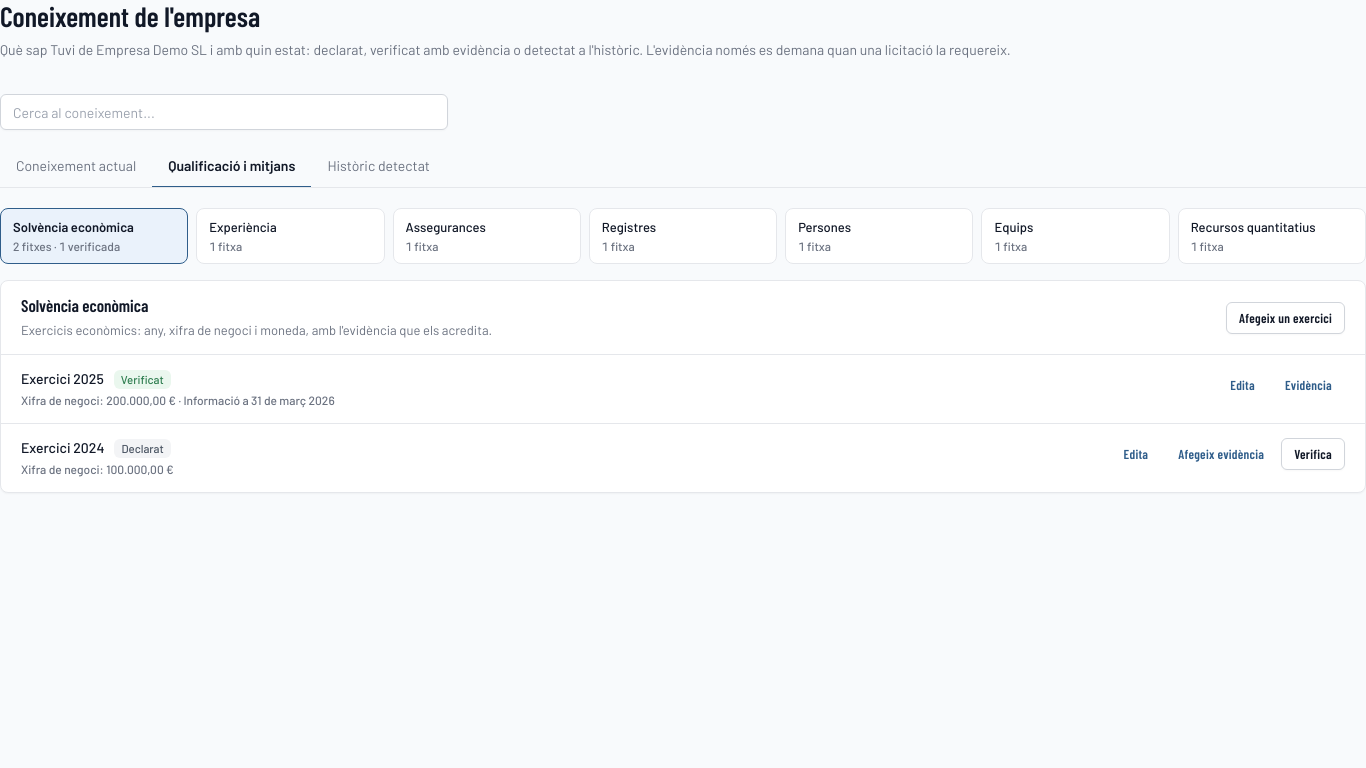
Test: Qualificació i mitjans: formularis › editar una dada verificada avisa que tornarà a pendent
The width and height of the screenshot is (1366, 768).
Expected: the navigation bar named "Seccions de qualificació i mitjans" is shown, 0,208 -> 1365,264
Click the button with aria-label "Edita l'exercici 2025" at (1243, 385), box 1217,369 -> 1268,401
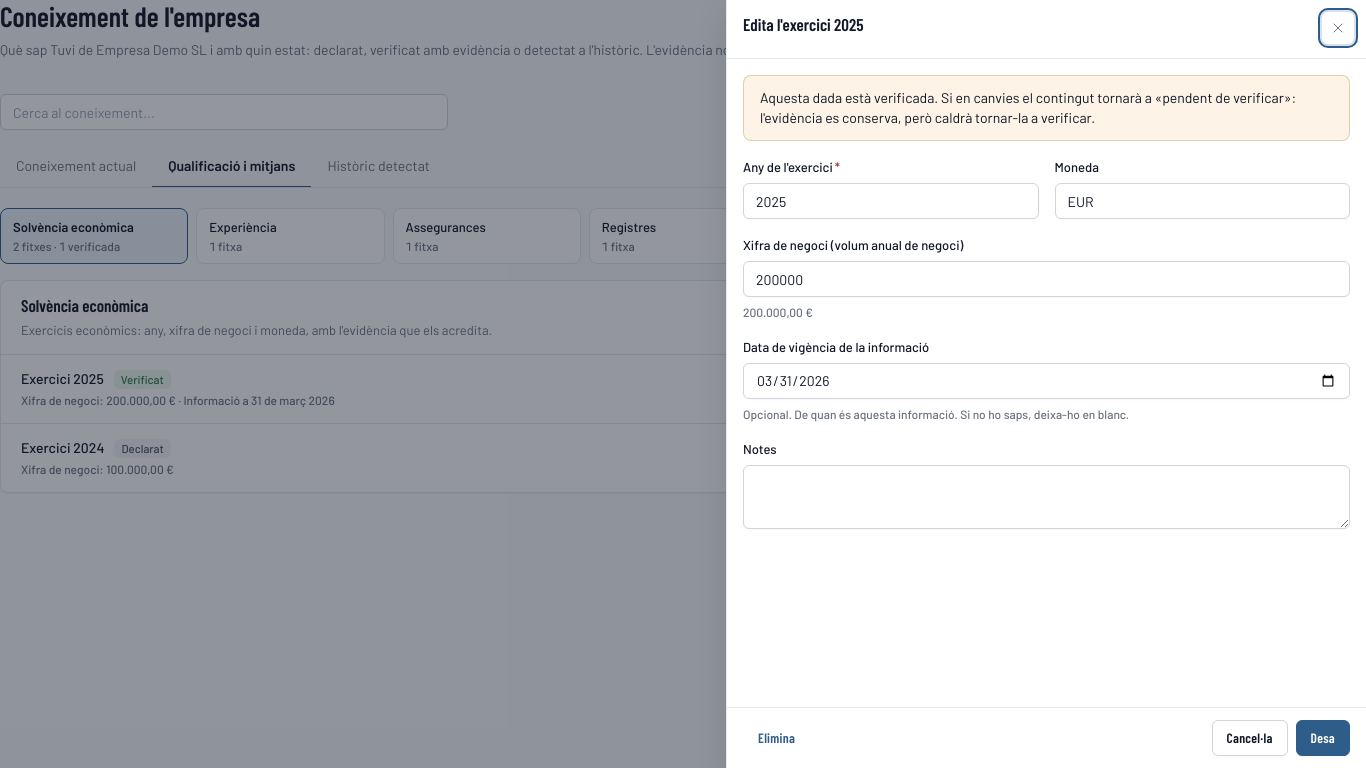
Now the text "tornarà a «pendent de verificar»" is shown, box 760,89 -> 1296,126
